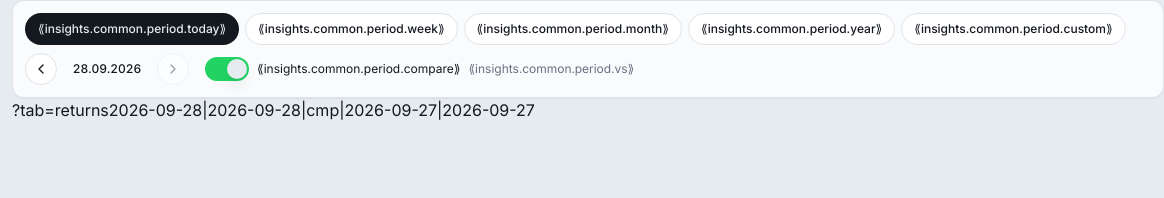
Scenario: InsightsFilterBar › custom days are typed dd.mm.yyyy — never a native date input — and applied together
Click the button "⟪insights.common.period.custom⟫".
click(1013, 29)  # box [901,13,1126,45]
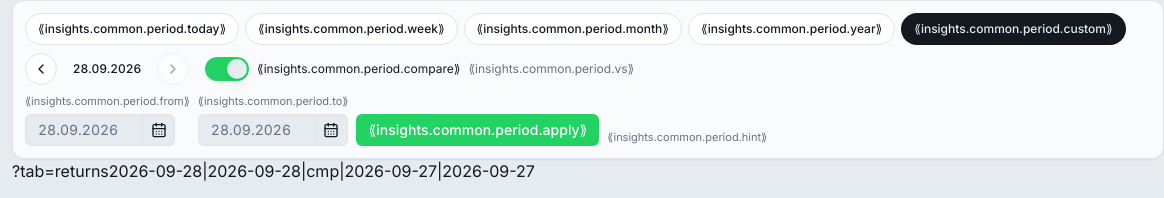
Replace the text in the field labelled "⟪insights.common.period.from⟫" with "1.9.2026" at (84, 130), box [25,114,143,146]
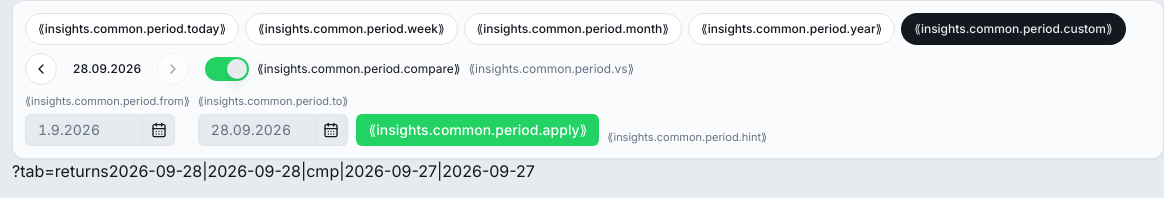
Replace the text in the field labelled "⟪insights.common.period.to⟫" with "10.09.2026" at (257, 130), box [198,114,316,146]
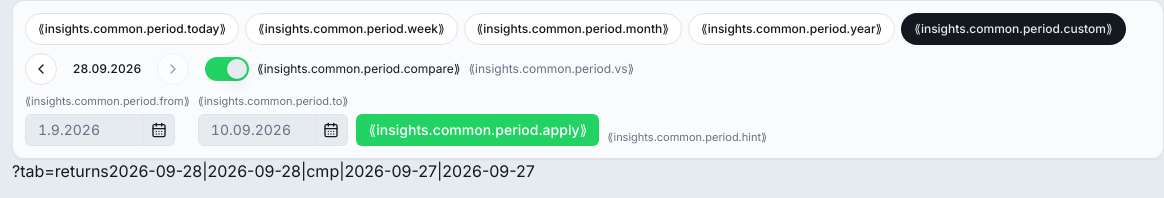
Click the button "⟪insights.common.period.apply⟫".
click(478, 130)  # box [356,114,599,146]
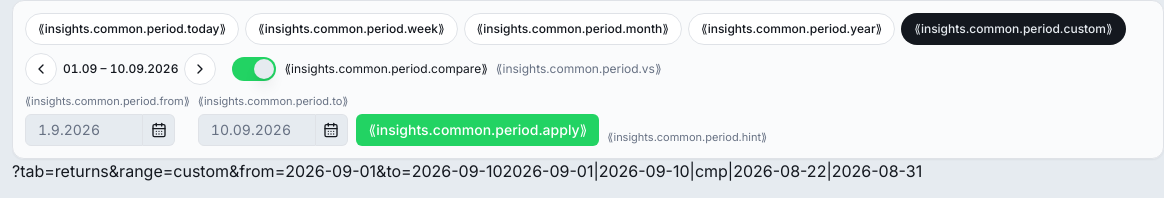
Now the text with test id "insights-period" reads "01.09 – 10.09.2026", box [63,61,178,76]
Now the text with test id "period" reads "2026-09-01|2026-09-10|cmp|2026-08-22|2026-08-31", box [502,160,922,180]
